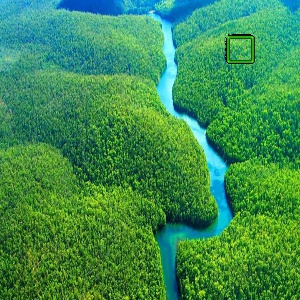square: (223, 33, 256, 64)
